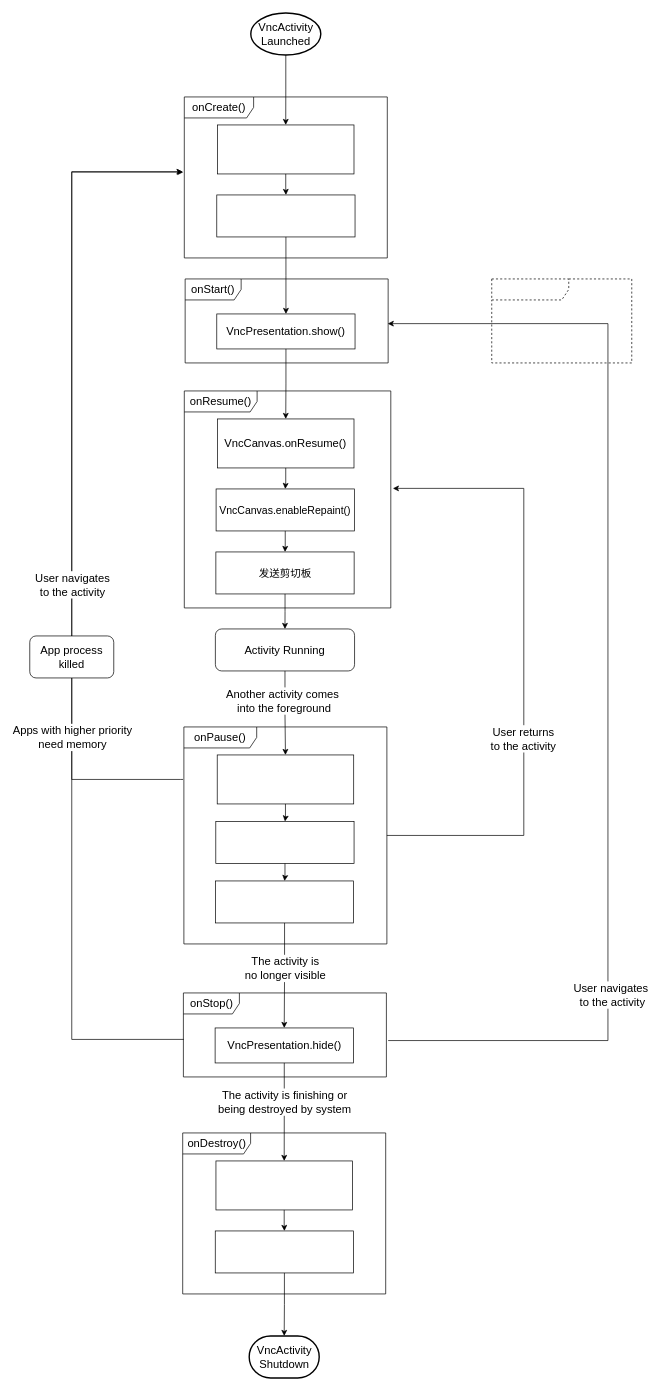
This 659x1390 diagram has some shape labels left out. Each missing label, with the centre of its shape:
endVncClient(): (x=283, y=1185)
fullRoute(): (x=285, y=215)
Linux剪切板发送到Android: (x=284, y=901)
onRestart(): (x=561, y=320)
VncCanvas.disableRepaint(): (x=284, y=842)
VncCanvas.onPause(): (x=285, y=779)
VncPresentation.dismiss(): (x=284, y=1251)
初始化 InputPad、InputHandler、 Clipboard Manager: (x=285, y=149)
